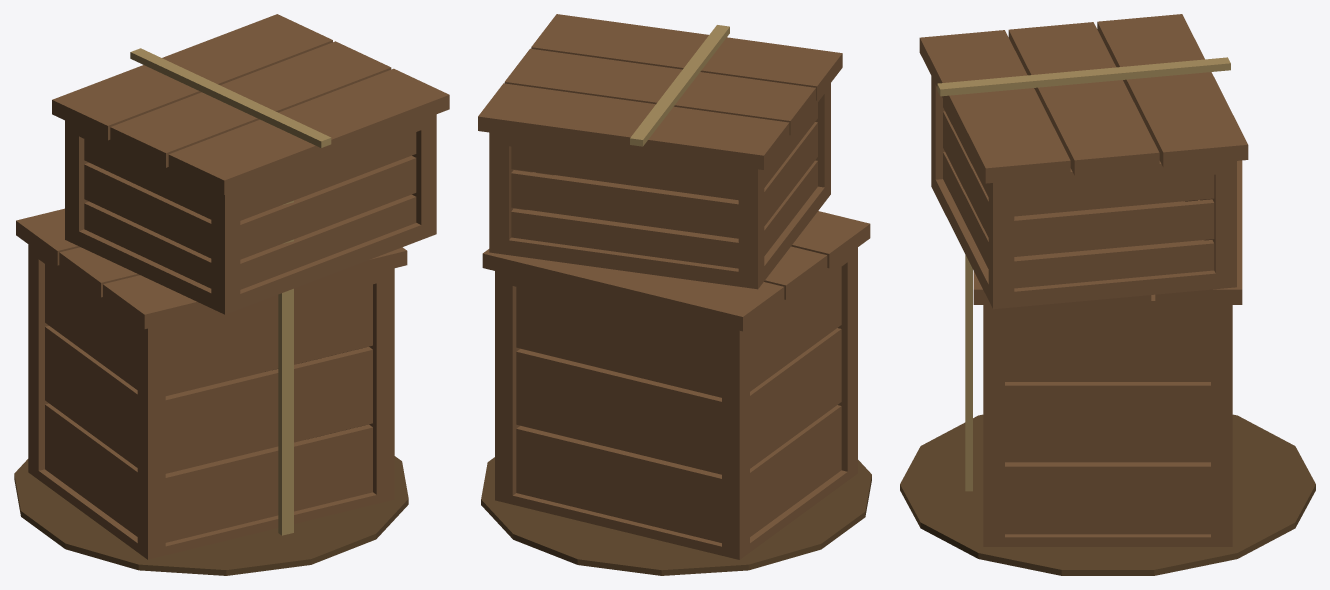
File: SM_Crate_Rustic_01_Stack.glb
3 views of the same model, side by side, from view 1: azimuth 30°, elevation 25°; view 2: azimuth 150°, elevation 25°; view 3: azimuth 270°, elevation 25° (orthographic). The views are drawn at different scales.
Visible parts, largest first — view 1: SM_Crate_Rustic_01_Stack_BasePanels, SM_Crate_Rustic_01_Stack_TopLid, SM_Crate_Rustic_01_Stack_TopPanels, SM_Crate_Rustic_01_Stack_BaseFrame, SM_Crate_Rustic_01_Stack_TopFrame, SM_Crate_Rustic_01_Stack_DirtRing, SM_Crate_Rustic_01_Stack_BaseLid, SM_Crate_Rustic_01_Stack_CinchF, SM_Crate_Rustic_01_Stack_CinchTop; view 2: SM_Crate_Rustic_01_Stack_BasePanels, SM_Crate_Rustic_01_Stack_TopLid, SM_Crate_Rustic_01_Stack_TopPanels, SM_Crate_Rustic_01_Stack_BaseFrame, SM_Crate_Rustic_01_Stack_TopFrame, SM_Crate_Rustic_01_Stack_DirtRing, SM_Crate_Rustic_01_Stack_BaseLid, SM_Crate_Rustic_01_Stack_CinchTop; view 3: SM_Crate_Rustic_01_Stack_BasePanels, SM_Crate_Rustic_01_Stack_TopLid, SM_Crate_Rustic_01_Stack_TopPanels, SM_Crate_Rustic_01_Stack_DirtRing, SM_Crate_Rustic_01_Stack_BaseFrame, SM_Crate_Rustic_01_Stack_TopFrame, SM_Crate_Rustic_01_Stack_CinchTop, SM_Crate_Rustic_01_Stack_BaseLid, SM_Crate_Rustic_01_Stack_CinchF.
Part boxes in pixels (box(x1,y1,x2,y2)): SM_Crate_Rustic_01_Stack_BasePanels: box(45, 264, 372, 542); SM_Crate_Rustic_01_Stack_TopLid: box(52, 14, 449, 194); SM_Crate_Rustic_01_Stack_TopPanels: box(84, 132, 416, 289); SM_Crate_Rustic_01_Stack_BaseFrame: box(28, 244, 394, 559); SM_Crate_Rustic_01_Stack_TopFrame: box(65, 114, 436, 314); SM_Crate_Rustic_01_Stack_DirtRing: box(14, 456, 408, 575); SM_Crate_Rustic_01_Stack_BaseLid: box(16, 208, 407, 329); SM_Crate_Rustic_01_Stack_CinchF: box(278, 200, 293, 535); SM_Crate_Rustic_01_Stack_CinchTop: box(130, 48, 331, 147); SM_Crate_Rustic_01_Stack_BasePanels: box(516, 267, 841, 542); SM_Crate_Rustic_01_Stack_TopLid: box(478, 14, 842, 169); SM_Crate_Rustic_01_Stack_TopPanels: box(511, 103, 817, 268); SM_Crate_Rustic_01_Stack_BaseFrame: box(495, 247, 857, 559); SM_Crate_Rustic_01_Stack_TopFrame: box(489, 83, 830, 289); SM_Crate_Rustic_01_Stack_DirtRing: box(481, 457, 871, 575); SM_Crate_Rustic_01_Stack_BaseLid: box(482, 211, 870, 331); SM_Crate_Rustic_01_Stack_CinchTop: box(630, 25, 729, 146); SM_Crate_Rustic_01_Stack_BasePanels: box(1005, 316, 1210, 534); SM_Crate_Rustic_01_Stack_TopLid: box(919, 14, 1248, 183); SM_Crate_Rustic_01_Stack_TopPanels: box(943, 99, 1214, 288); SM_Crate_Rustic_01_Stack_DirtRing: box(900, 414, 1315, 575); SM_Crate_Rustic_01_Stack_BaseFrame: box(983, 294, 1232, 546); SM_Crate_Rustic_01_Stack_TopFrame: box(931, 76, 1236, 309); SM_Crate_Rustic_01_Stack_CinchTop: box(937, 57, 1230, 96); SM_Crate_Rustic_01_Stack_BaseLid: box(973, 160, 1242, 304); SM_Crate_Rustic_01_Stack_CinchF: box(965, 255, 972, 491).
Size of the model in its own units: 0.8742 by 0.969 by 0.868.
